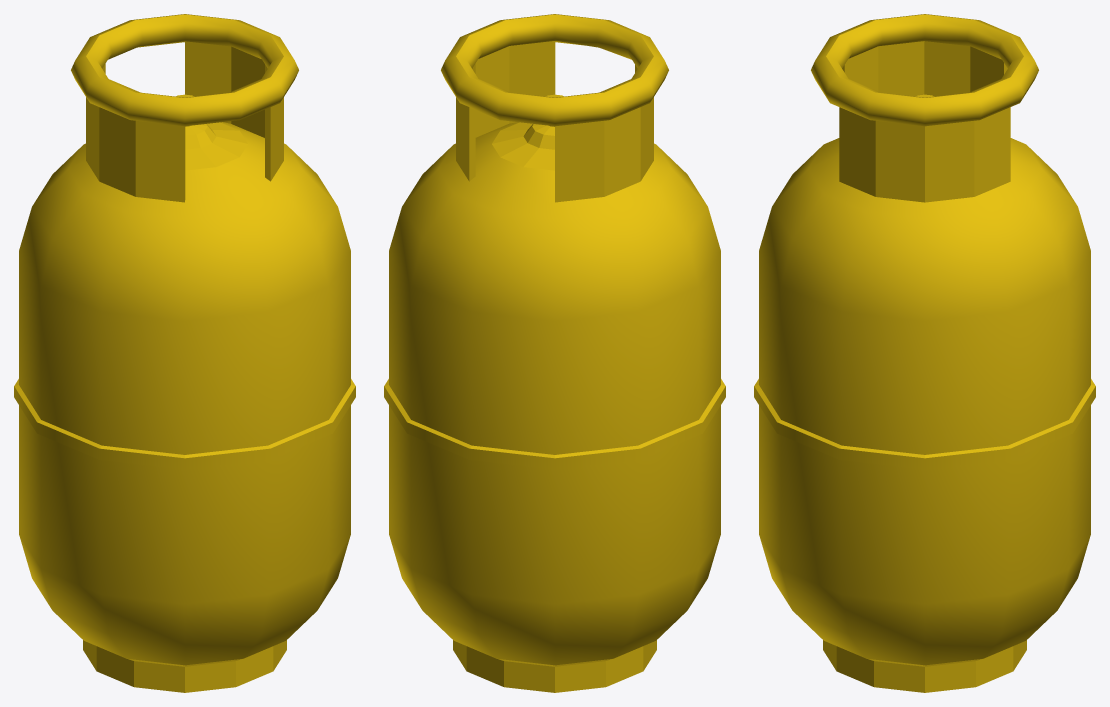
File: Parts_Gas Tank.fbx
3 renders of one model, left to right at view 1: azimuth 30°, elevation 25°; view 2: azimuth 150°, elevation 25°; view 3: azimuth 270°, elevation 25°, orthographic.
Parts seen in each view (by area): view 1: OilTank001; view 2: OilTank001; view 3: OilTank001.
Part boxes in pixels (x1=…): OilTank001: x1=14, y1=14, x2=355, y2=692; OilTank001: x1=384, y1=14, x2=725, y2=692; OilTank001: x1=754, y1=14, x2=1095, y2=692.
Bounding box in the file's own units: 22.53 × 43.19 × 22.53.
